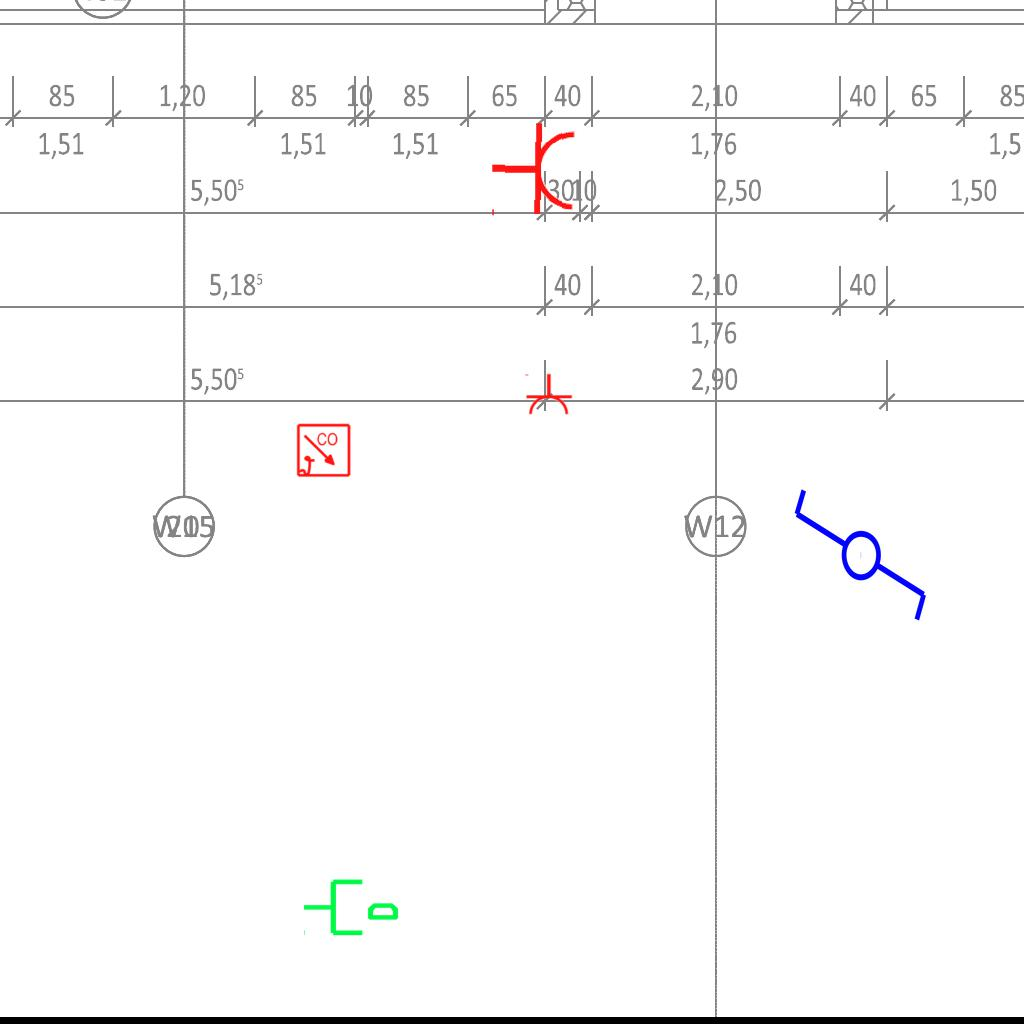Datenanschluss_einfach: (301, 871, 401, 940)
ROA_Rauchmelder_optisch_mit_Signalgeber_(Sockelsirene): (296, 423, 352, 479)
Schukosteckdose_einfach: (489, 120, 578, 222), (523, 373, 573, 416)
Wechselschalter: (787, 485, 931, 642)
